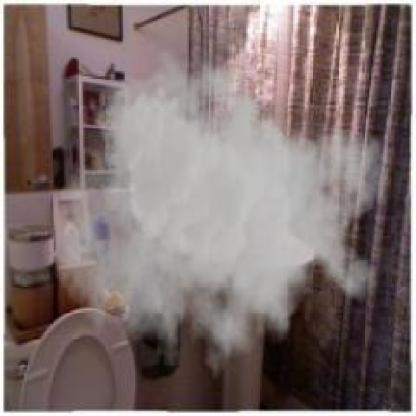Smoke: (50, 46, 392, 396)
